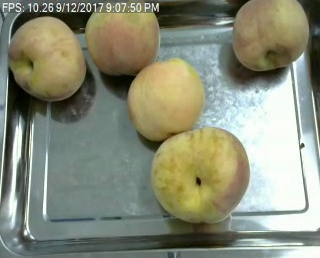Peach: (148, 127, 250, 222), (7, 16, 85, 102), (128, 59, 205, 139), (84, 1, 160, 74), (232, 0, 309, 72)
